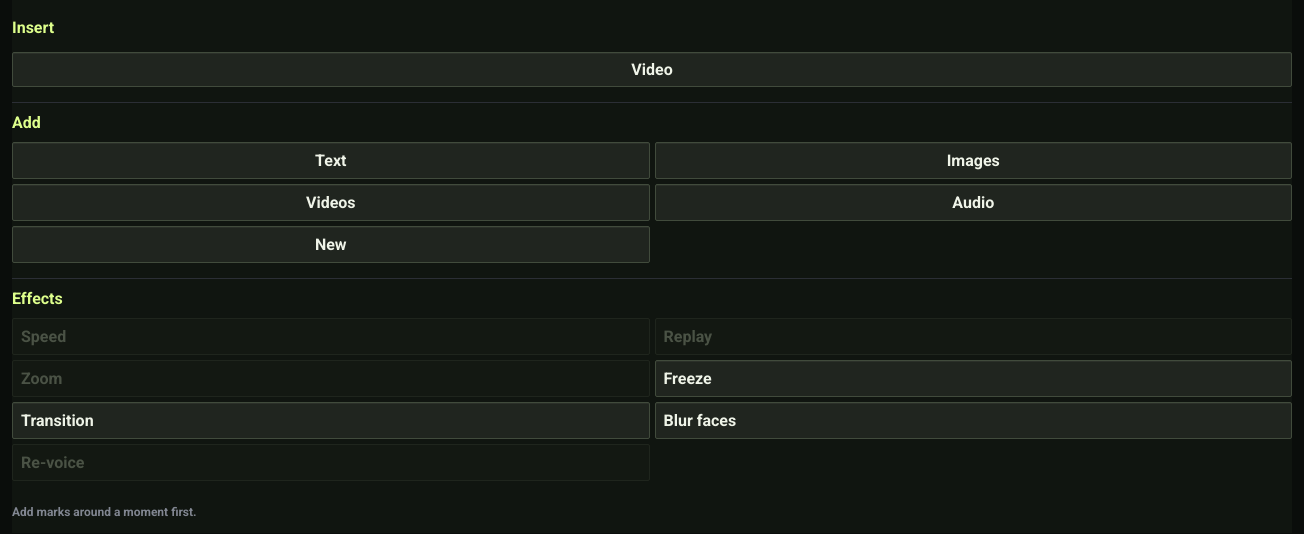
Test: asset panel › opens the face blur editor and returns to the add menu
This screenshot has width=1304, height=534.
Click the button "Blur faces". click: click(700, 420)
box: top-left (654, 402), bottom-right (1292, 439)
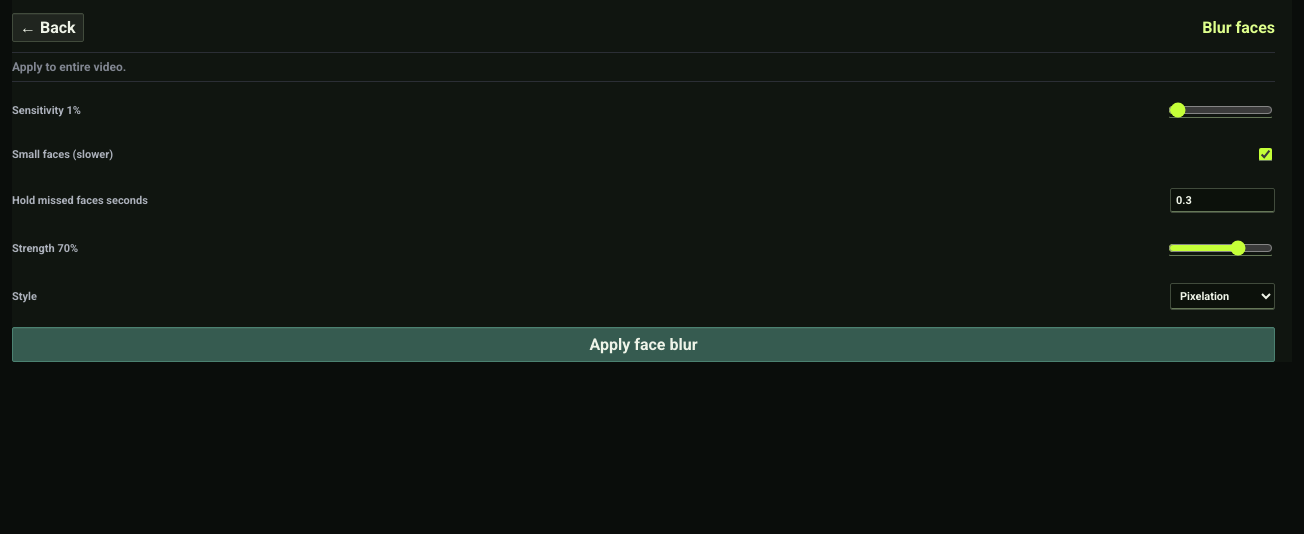
Expected: the button "Apply face blur" is enabled, top-left (12, 327), bottom-right (1275, 362)
Now the text "Apply to entire video" is shown, box top-left (12, 52), bottom-right (1275, 82)
Click the button "← Back". click: click(48, 27)
box: top-left (12, 12), bottom-right (84, 42)
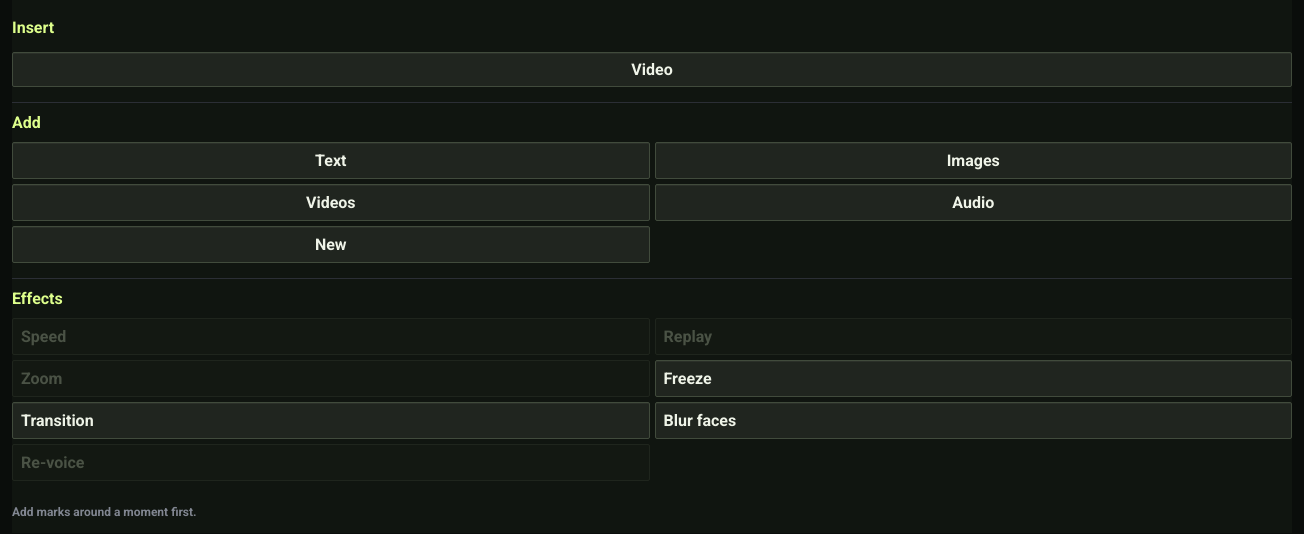
Now the text "Effects" is shown, box top-left (12, 289), bottom-right (63, 308)
